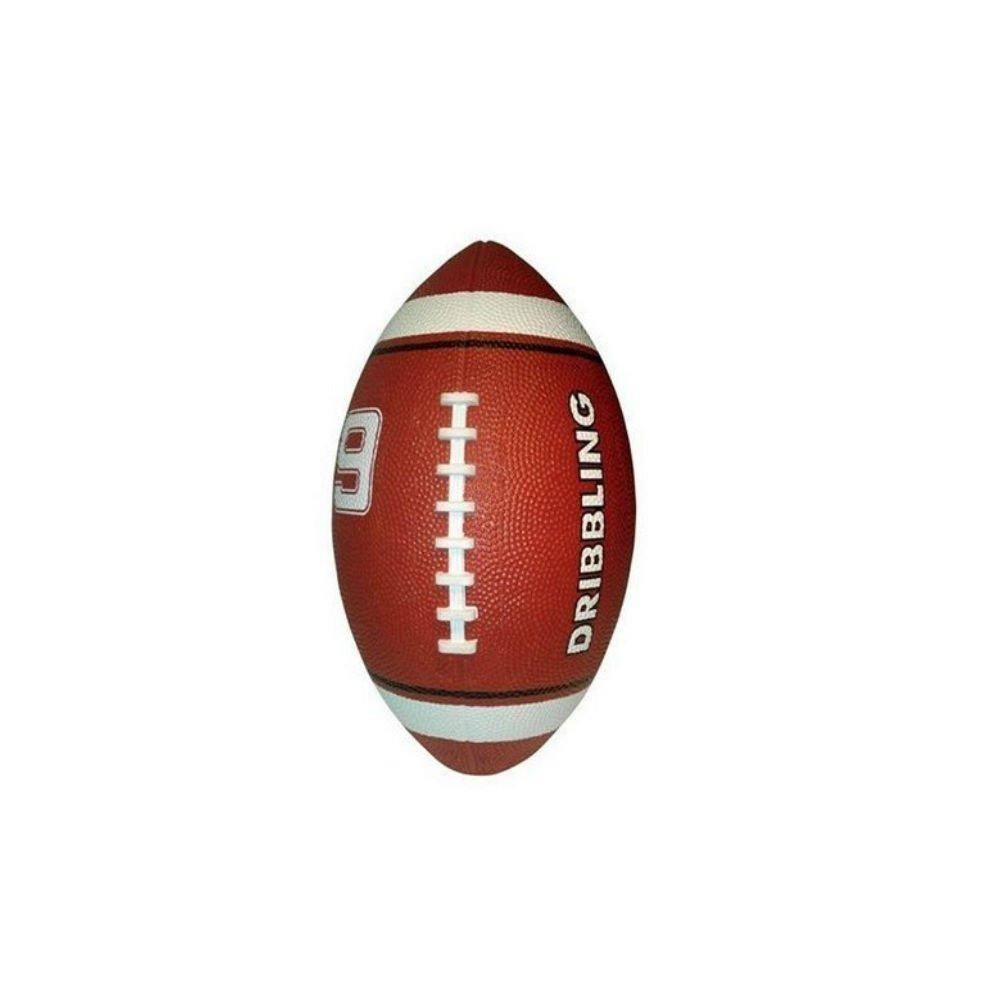Sports-Ball: (332, 242, 635, 774)
